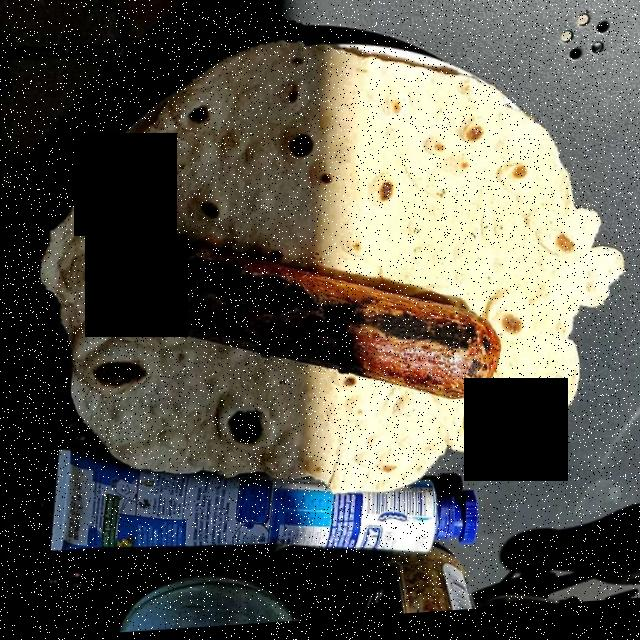fajita-bread-only: (51, 61, 584, 493)
